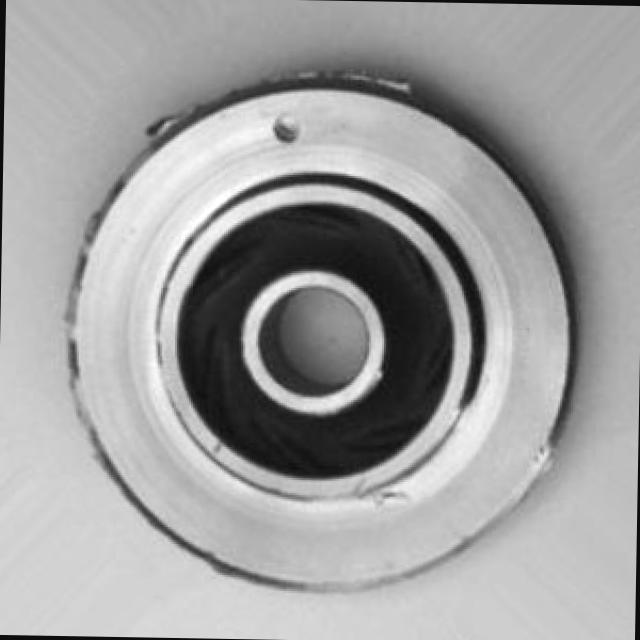Defect: (272, 110, 308, 149)
